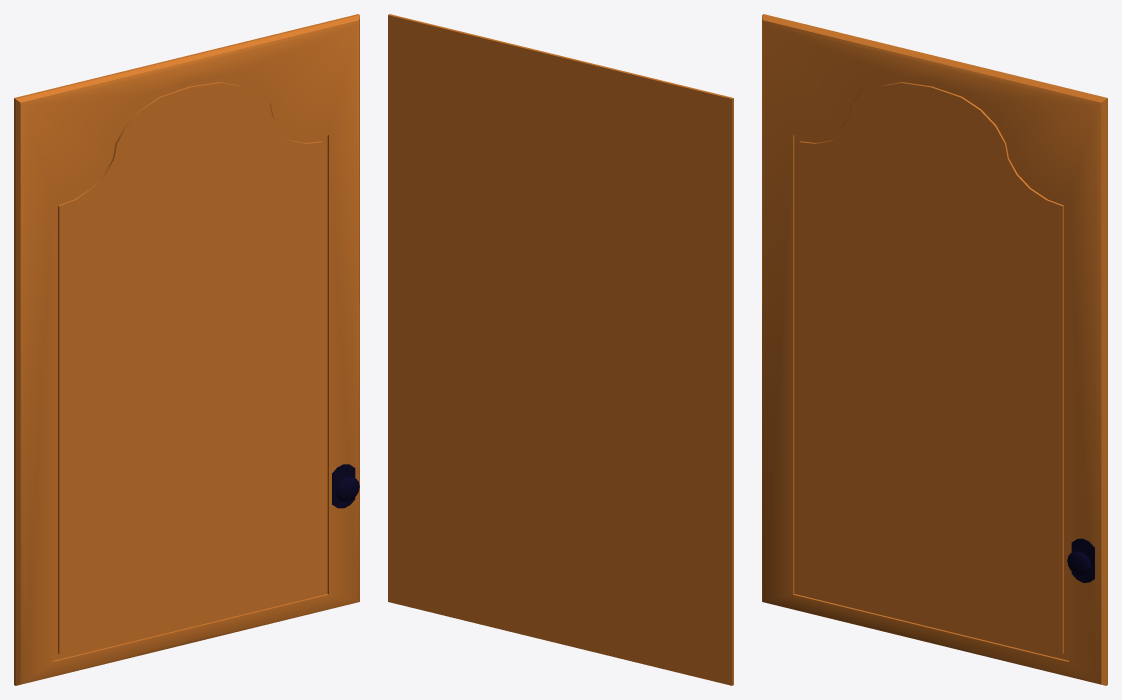
File: GB_Porte_grand.fbx
The picture shows the model from 3 angles, left to right: view 1: azimuth 30°, elevation 25°; view 2: azimuth 150°, elevation 25°; view 3: azimuth 330°, elevation 25°; orthographic projection.
Visible parts, largest first — view 1: Porte_grand; view 2: Porte_grand; view 3: Porte_grand.
Boxes of the visible parts, left/top/right/bottom form: Porte_grand: left=14, top=14, right=359, bottom=685; Porte_grand: left=388, top=14, right=733, bottom=685; Porte_grand: left=762, top=14, right=1107, bottom=685.
Bounding box in the file's own units: 0.6106 × 0.9942 × 0.0339.
